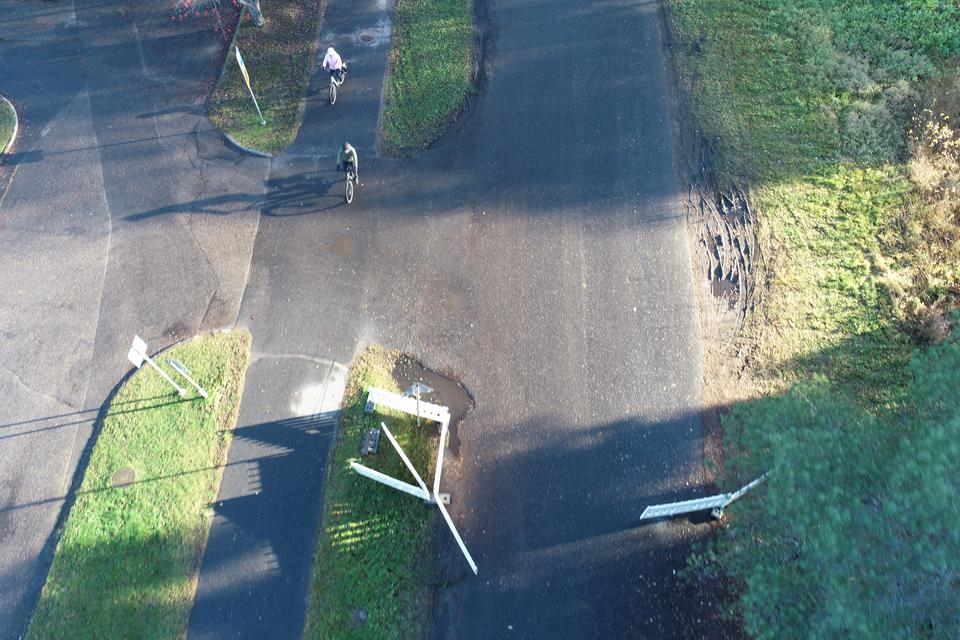intersection: (2, 80, 808, 421)
